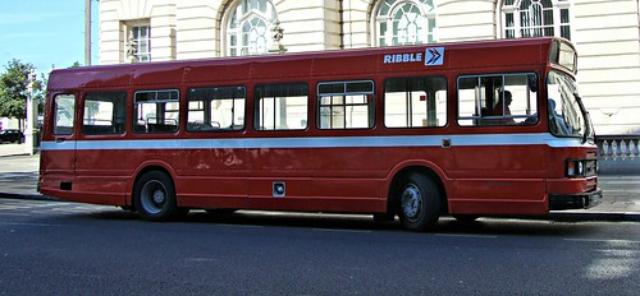bus: (36, 35, 602, 232)
